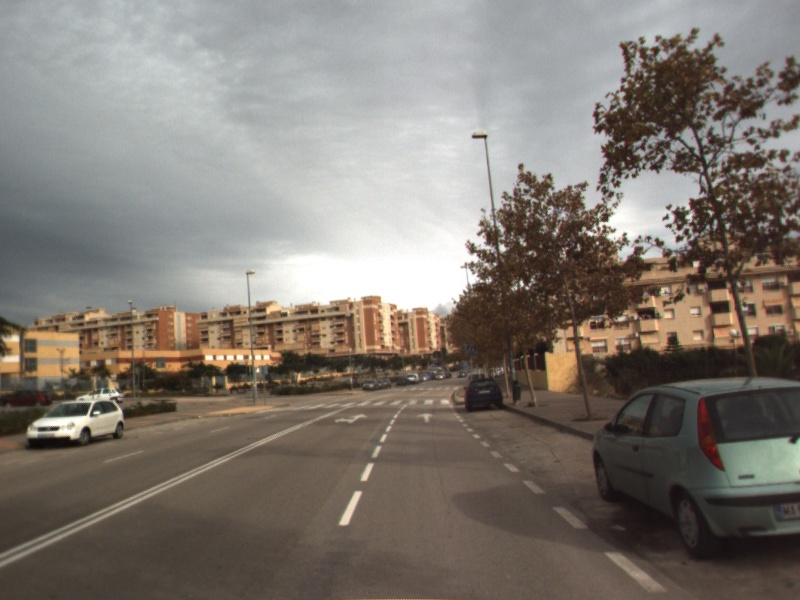STRAIGHT: (414, 411, 438, 424)
STRAIGHT_LEFT: (333, 411, 370, 425)
